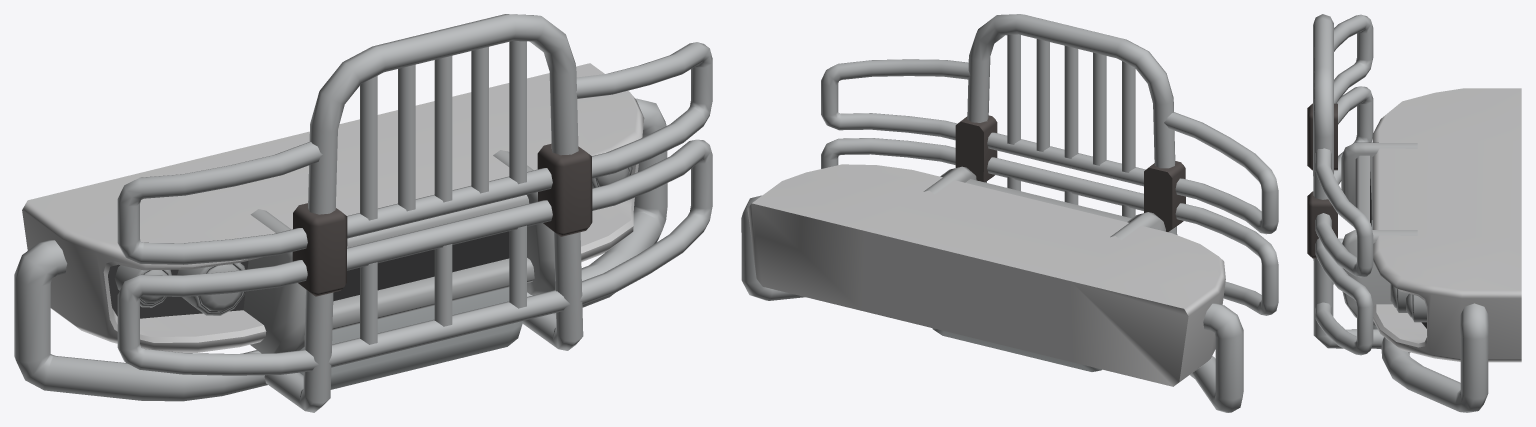
The model's file is Car_13_FrontBumper_Cool.fbx.
3 views of the same model, side by side, from view 1: azimuth 30°, elevation 25°; view 2: azimuth 150°, elevation 25°; view 3: azimuth 270°, elevation 25° (orthographic). The views are drawn at different scales.
Parts seen in each view (by area): view 1: Car_13_FrontBumper_Cool; view 2: Car_13_FrontBumper_Cool; view 3: Car_13_FrontBumper_Cool.
Part boxes in pixels (x1,y1,x2,y2): Car_13_FrontBumper_Cool: [14, 14, 712, 412]; Car_13_FrontBumper_Cool: [741, 14, 1278, 412]; Car_13_FrontBumper_Cool: [1307, 14, 1521, 412].
Size of the model in its own units: 181 by 70.23 by 99.48.
